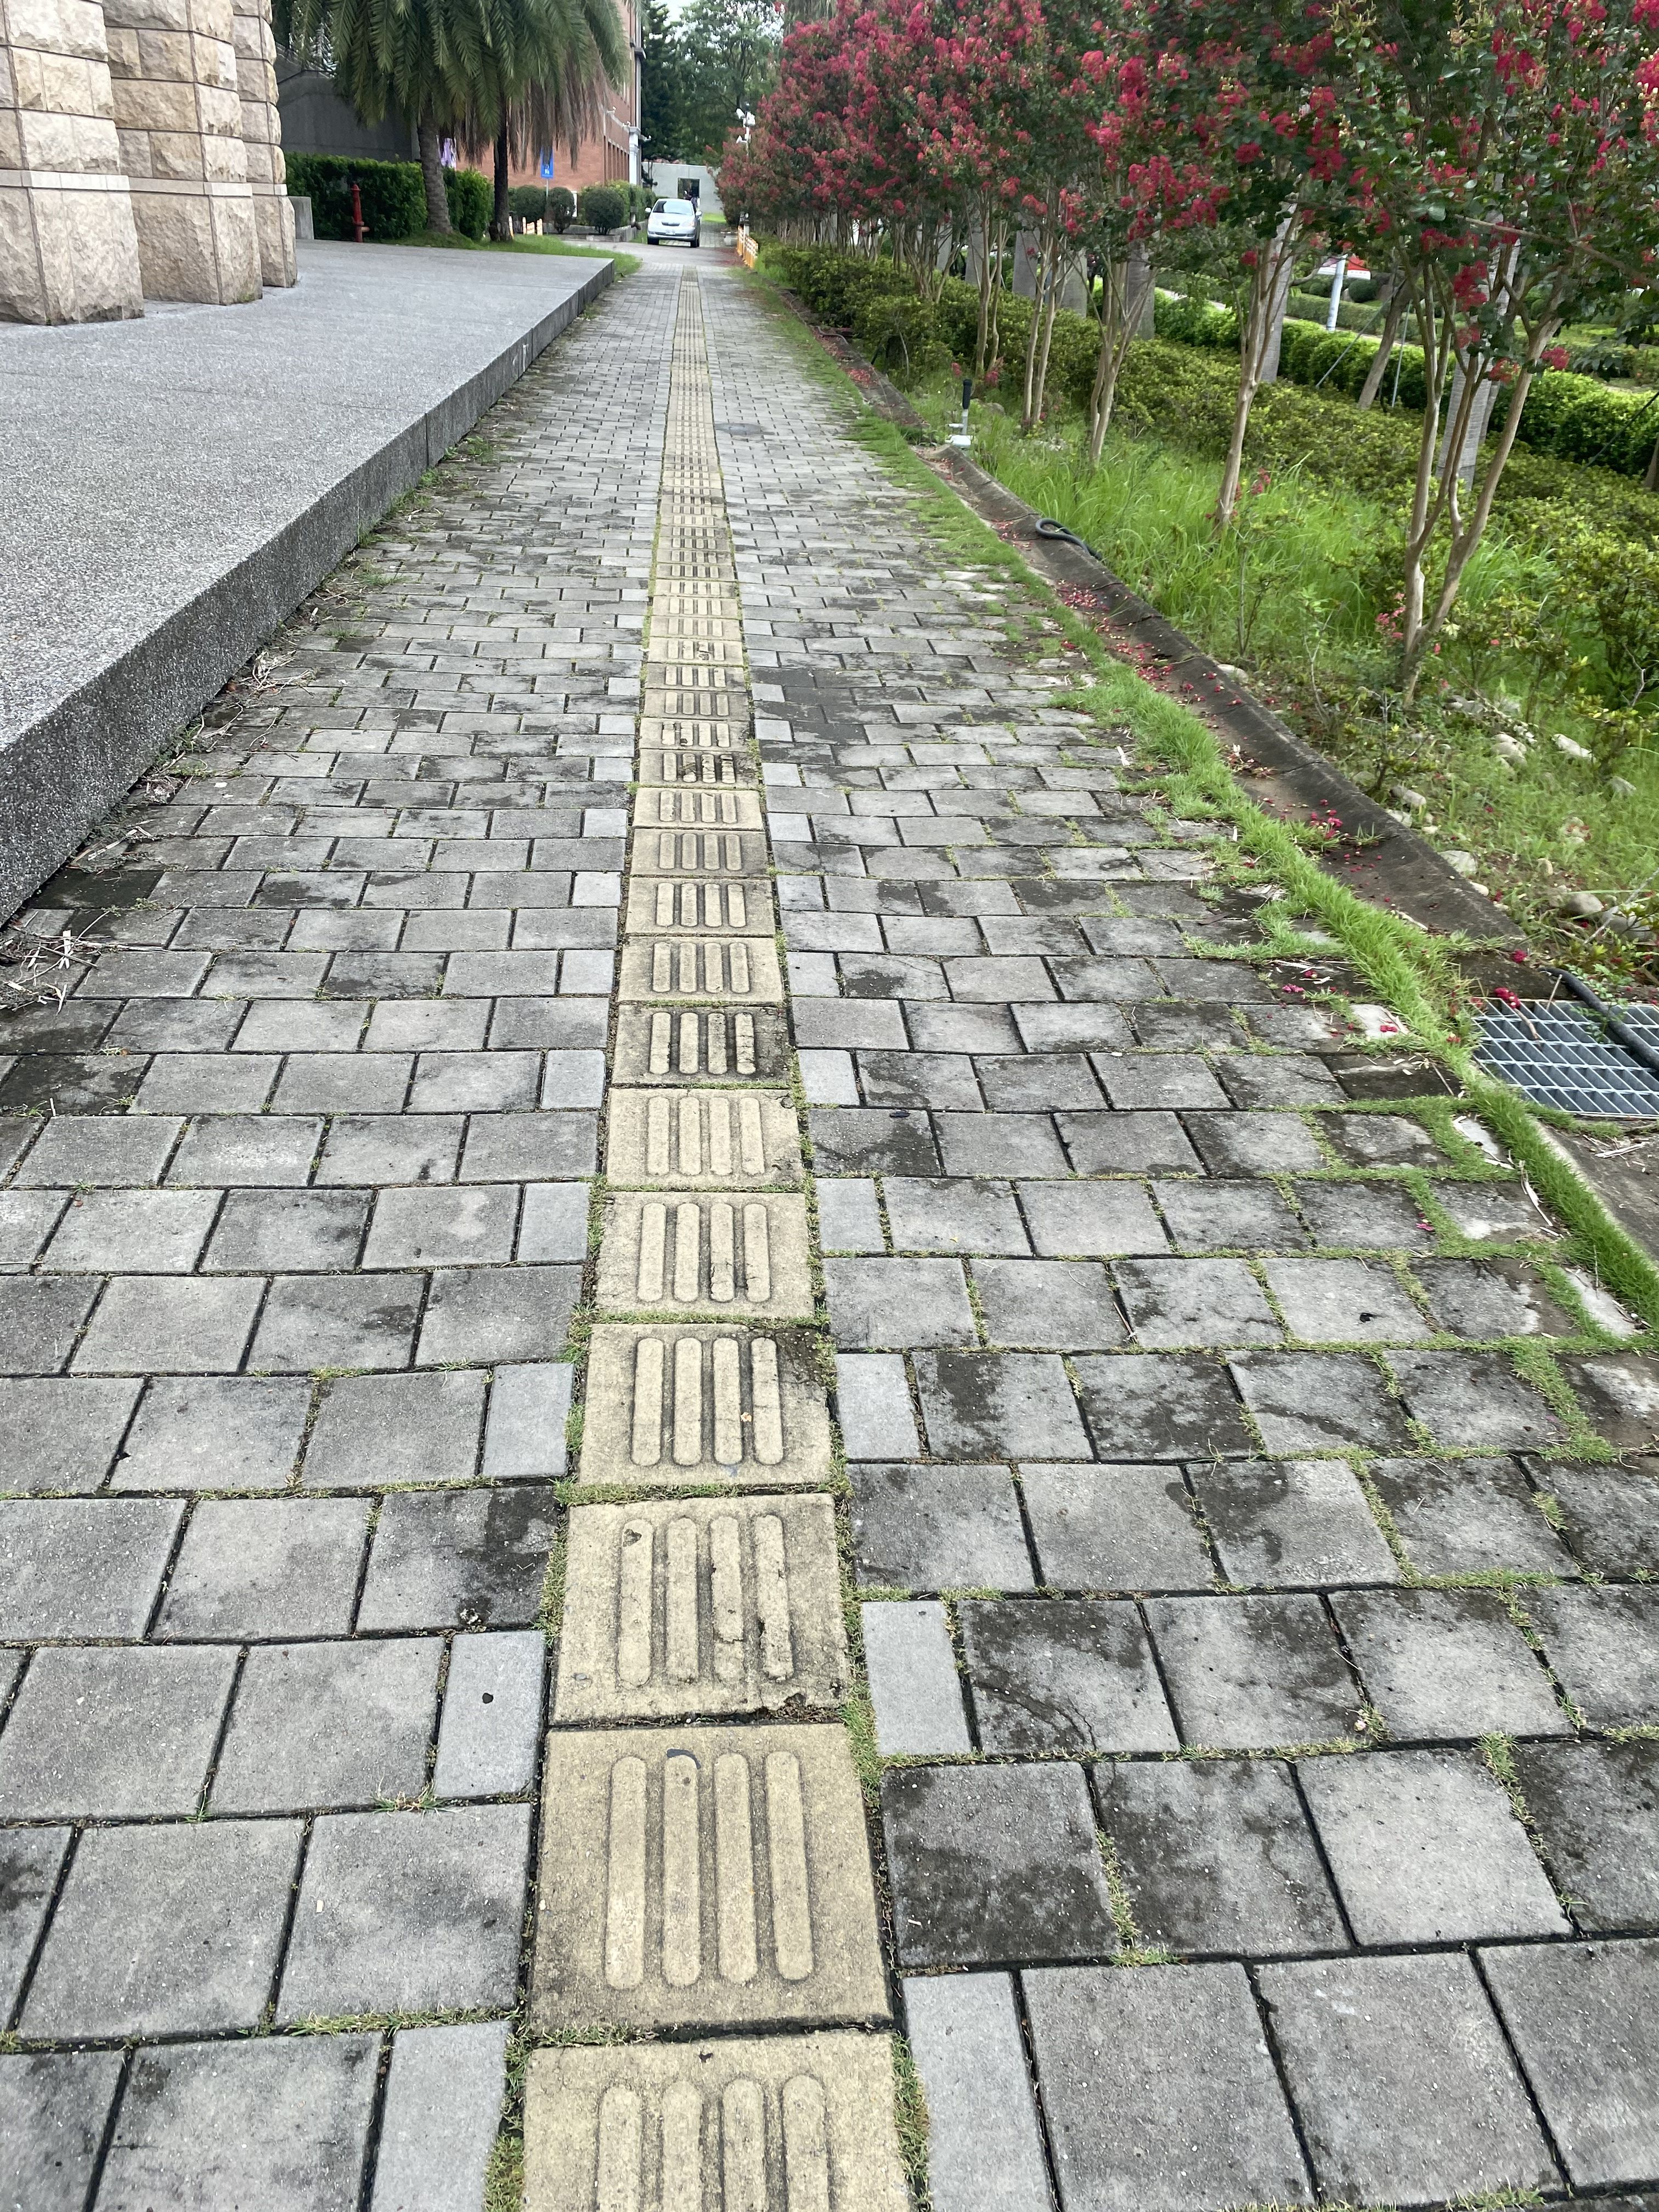0: (7, 467, 1659, 2212)
sidewalk: (446, 235, 1136, 1372)
